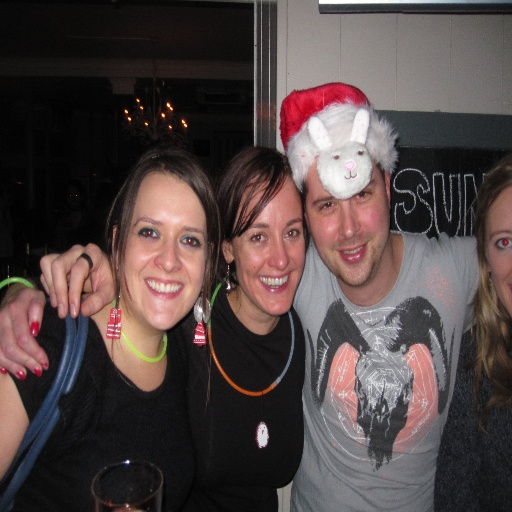hand: (38, 240, 124, 319), (0, 283, 49, 382)
